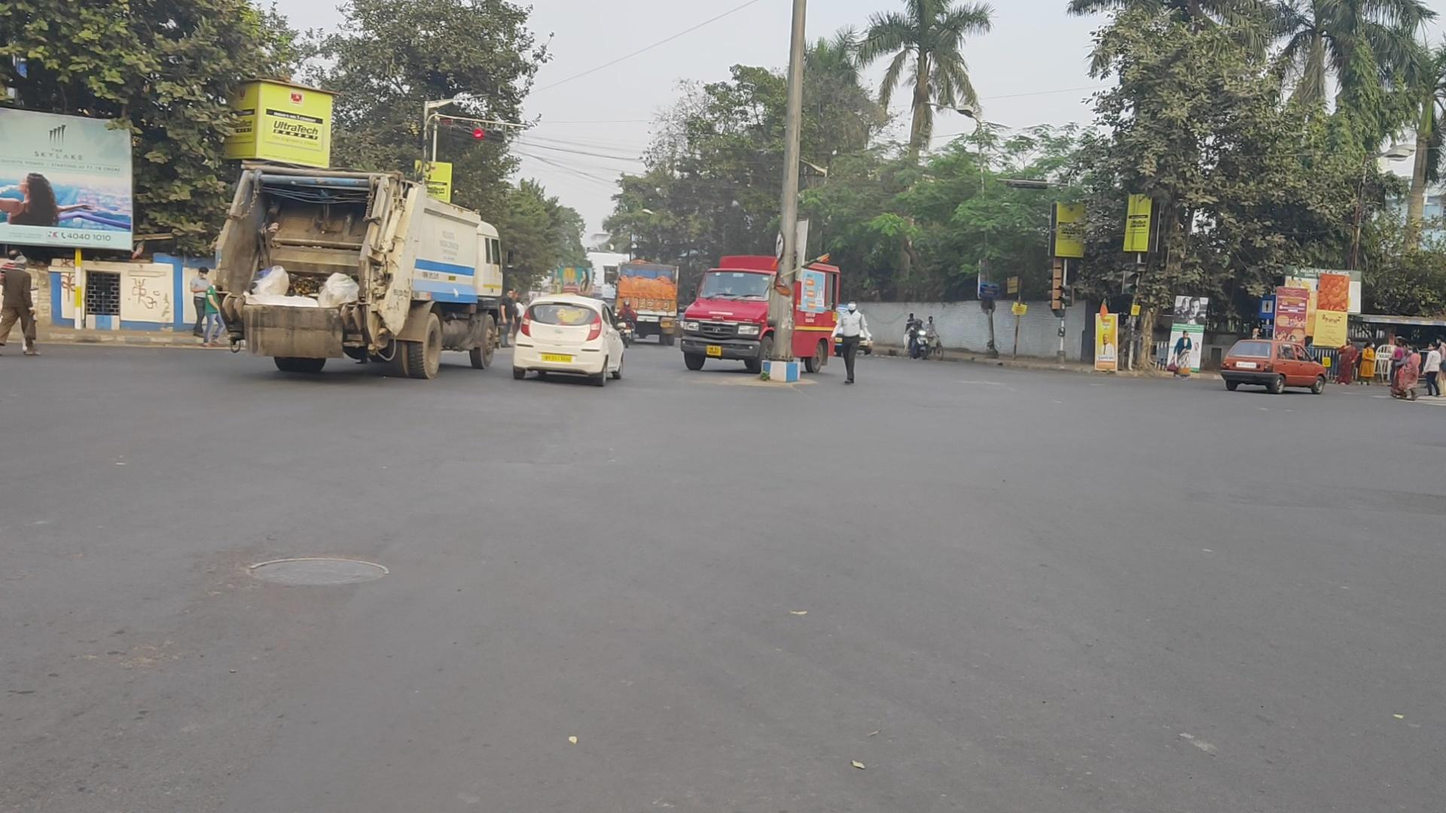bike: (615, 300, 639, 349), (905, 318, 931, 362)
car: (513, 294, 624, 387), (1220, 339, 1326, 394)
truck: (212, 160, 514, 380), (682, 255, 840, 374), (615, 260, 679, 346)
